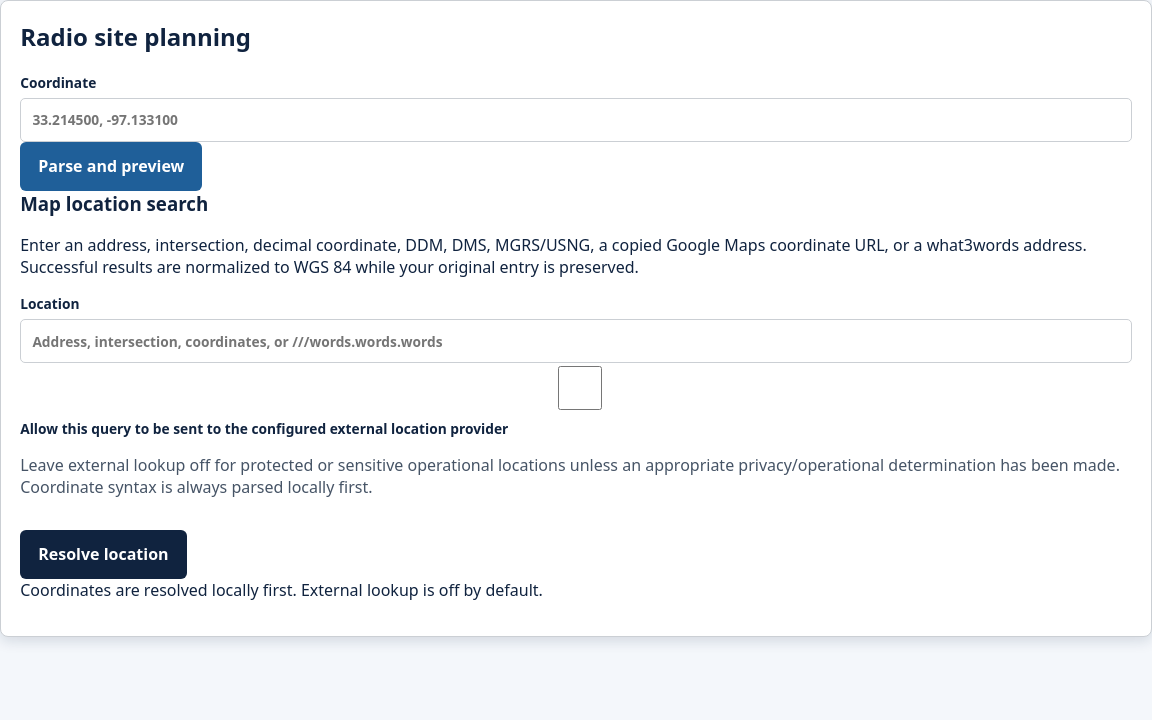
Scenario: resolves locally with external lookup disabled and exposes a textual result list
This screenshot has width=1152, height=720.
Type "33.2145, -97.1331" into the field labelled "Location" at (576, 341), box [20, 319, 1132, 363]
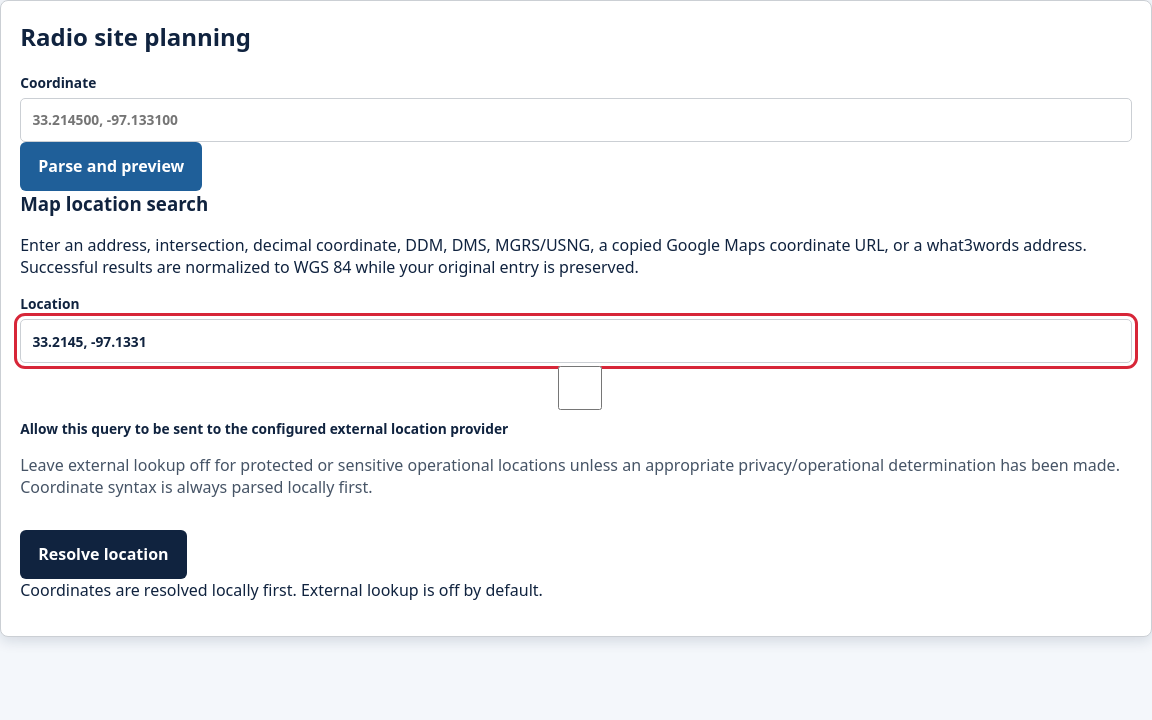
Click the button "Resolve location" at (103, 554), box [20, 530, 187, 579]
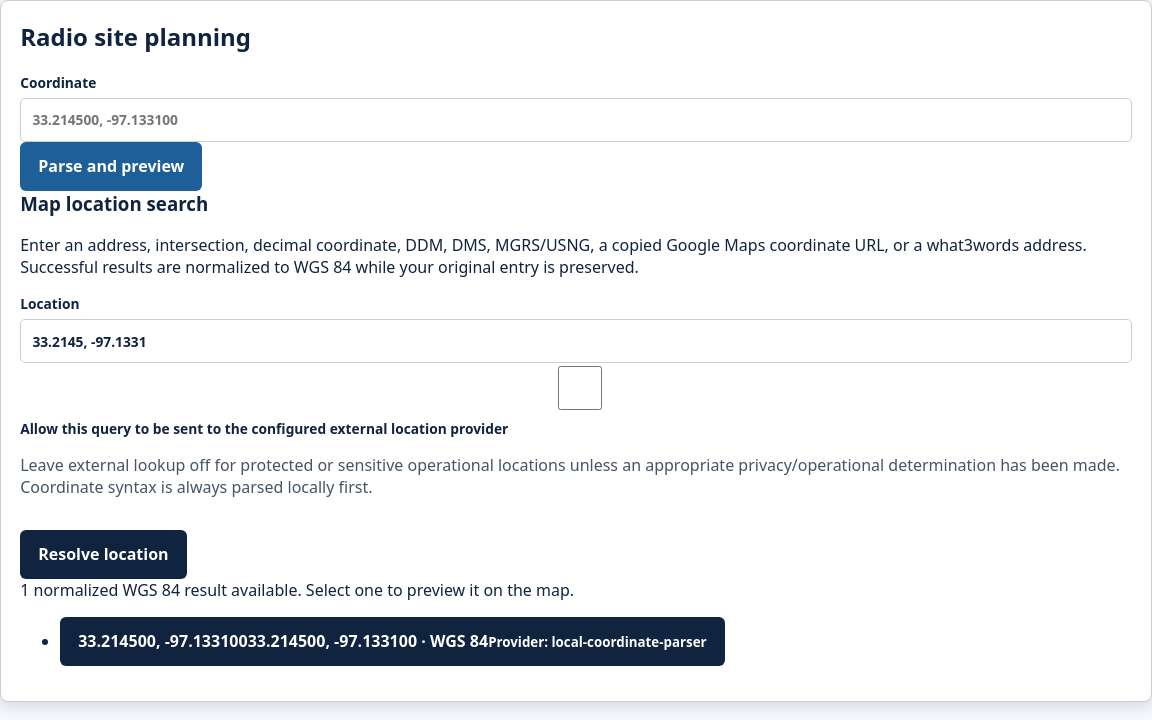
Result: the list named "Normalized location results" is shown at [60, 617, 725, 666]
Result: the text "33.214500, -97.133100 · WGS 84" is shown at [248, 630, 488, 652]
